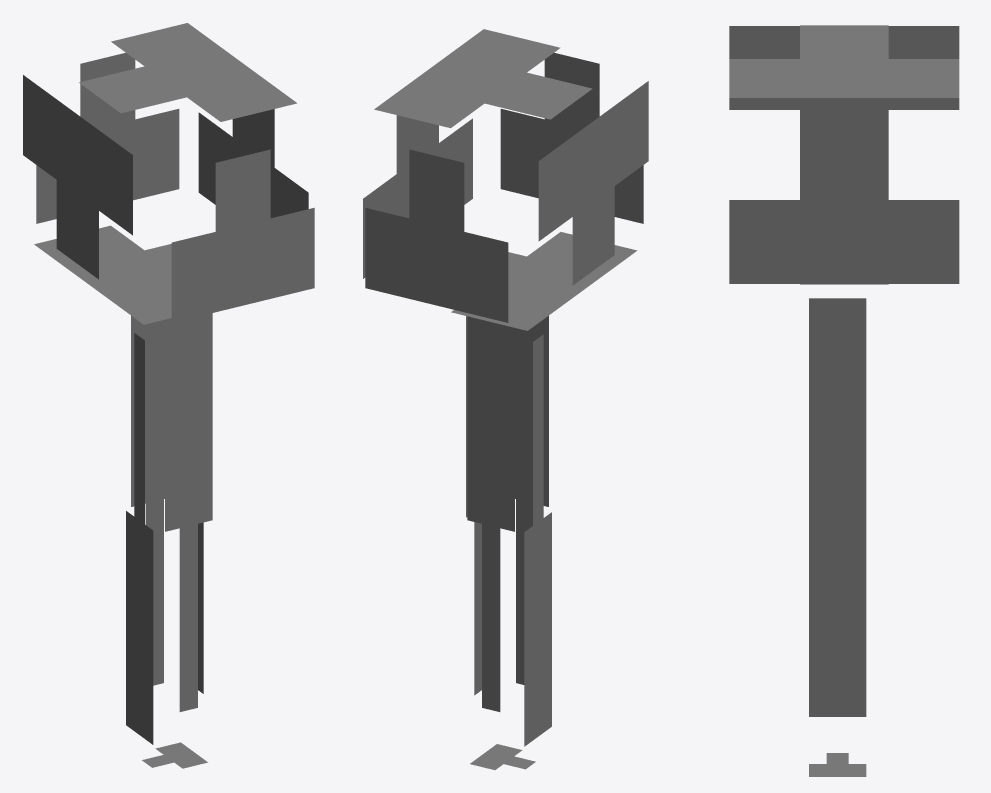
Rendered from pickaxe.obj.
The picture shows the model from 3 angles, left to right: view 1: azimuth 30°, elevation 25°; view 2: azimuth 150°, elevation 25°; view 3: azimuth 270°, elevation 25°; orthographic projection. The views are drawn at different scales.
Size of the model in its own units: 0.3 by 1.1 by 0.4.
